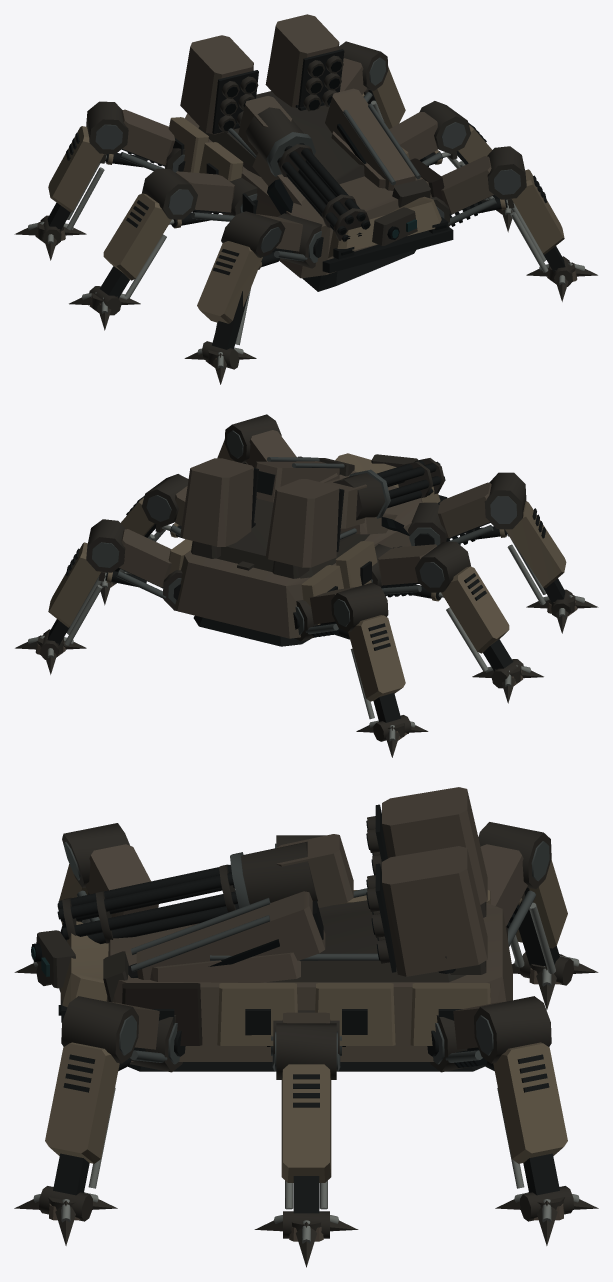
Rendered from mx06_d3_lod1.meshopt.glb.
3 views of the same model, one above another, from view 1: azimuth 30°, elevation 25°; view 2: azimuth 150°, elevation 25°; view 3: azimuth 270°, elevation 25° (orthographic). The views are drawn at different scales.
Visible parts, largest first — view 1: HULL_ARMOR, SHIN_ARMOR_FL, SHIN_ARMOR_ML, MISSILE_POD_R, MISSILE_POD_L, SHIN_ARMOR_RL, LASER_CANNON, SHIN_ARMOR_FR, MINIGUN_BARRELS, MINIGUN_RECEIVER, UPPER_ARM_FR, UPPER_ARM_RL (+11 smaller); view 2: HULL_ARMOR, SHIN_ARMOR_RL, SHIN_ARMOR_ML, MISSILE_POD_L, MISSILE_POD_R, SHIN_ARMOR_FL, SHIN_ARMOR_RR, UPPER_ARM_FL, UPPER_ARM_RR, LASER_CANNON, SHIN_ARMOR_MR, MINIGUN_RECEIVER (+9 smaller); view 3: HULL_ARMOR, MISSILE_POD_R, SHIN_ARMOR_FR, SHIN_ARMOR_RR, SHIN_ARMOR_MR, LASER_CANNON, MINIGUN_BARRELS, MISSILE_POD_L, MINIGUN_RECEIVER, SHIN_ARMOR_RL, UPPER_ARM_RL, SHIN_ARMOR_FL (+9 smaller).
Part boxes in pixels (left/top/right/bottom): HULL_ARMOR: left=168, top=91, right=453, bottom=291; SHIN_ARMOR_FL: left=197, top=211, right=285, bottom=369; SHIN_ARMOR_ML: left=89, top=168, right=197, bottom=315; MISSILE_POD_R: left=265, top=14, right=344, bottom=111; MISSILE_POD_L: left=180, top=35, right=258, bottom=134; SHIN_ARMOR_RL: left=40, top=101, right=128, bottom=245; LASER_CANNON: left=325, top=88, right=430, bottom=207; SHIN_ARMOR_FR: left=487, top=146, right=572, bottom=286; MINIGUN_BARRELS: left=277, top=143, right=370, bottom=241; MINIGUN_RECEIVER: left=238, top=96, right=315, bottom=176; UPPER_ARM_FR: left=431, top=156, right=496, bottom=226; UPPER_ARM_RL: left=119, top=109, right=185, bottom=172; HULL_ARMOR: left=168, top=453, right=447, bottom=646; SHIN_ARMOR_RL: left=331, top=583, right=411, bottom=741; SHIN_ARMOR_ML: left=415, top=541, right=523, bottom=688; MISSILE_POD_L: left=265, top=479, right=344, bottom=567; MISSILE_POD_R: left=180, top=458, right=258, bottom=546; SHIN_ARMOR_FL: left=484, top=472, right=572, bottom=617; SHIN_ARMOR_RR: left=40, top=519, right=125, bottom=659; UPPER_ARM_FL: left=408, top=482, right=493, bottom=545; UPPER_ARM_RR: left=116, top=529, right=182, bottom=610; LASER_CANNON: left=255, top=457, right=354, bottom=502; SHIN_ARMOR_MR: left=105, top=474, right=188, bottom=572; MINIGUN_RECEIVER: left=324, top=469, right=390, bottom=528; HULL_ARMOR: left=58, top=888, right=512, bottom=1071; MISSILE_POD_R: left=366, top=846, right=487, bottom=976; SHIN_ARMOR_FR: left=39, top=996, right=138, bottom=1221; SHIN_ARMOR_RR: left=474, top=996, right=573, bottom=1221; SHIN_ARMOR_MR: left=275, top=1023, right=337, bottom=1238; LASER_CANNON: left=103, top=891, right=325, bottom=1002; MINIGUN_BARRELS: left=57, top=864, right=239, bottom=943; MISSILE_POD_L: left=366, top=787, right=487, bottom=904; MINIGUN_RECEIVER: left=230, top=834, right=353, bottom=908; SHIN_ARMOR_RL: left=478, top=822, right=573, bottom=985; UPPER_ARM_RL: left=480, top=844, right=535, bottom=946; SHIN_ARMOR_FL: left=36, top=823, right=129, bottom=985.
Size of the model in its own units: 6.98 by 2.82 by 5.45.
